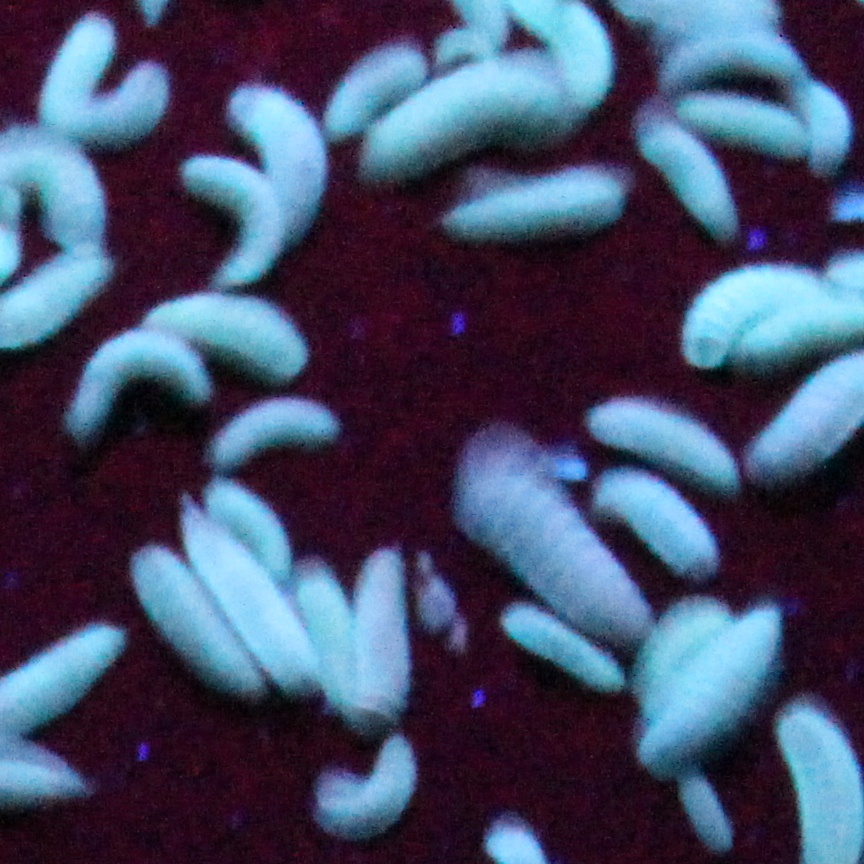larve: (451, 429, 653, 639), (180, 495, 319, 693), (638, 601, 788, 770), (367, 64, 582, 170), (128, 549, 269, 693), (30, 12, 167, 147), (67, 329, 211, 447), (226, 85, 330, 241), (180, 147, 290, 291), (440, 160, 626, 241), (594, 470, 717, 579), (692, 260, 828, 358), (586, 401, 742, 485), (640, 108, 736, 239), (142, 299, 311, 372), (307, 737, 423, 829), (501, 608, 626, 689), (211, 397, 340, 470), (634, 595, 723, 697), (678, 91, 813, 156), (209, 479, 292, 583), (323, 51, 423, 131), (361, 541, 403, 729), (657, 43, 811, 85), (680, 774, 740, 856), (798, 81, 848, 172)
